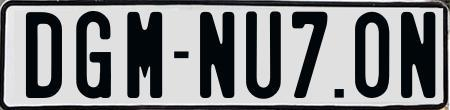0: (354, 10, 389, 102)
7: (289, 10, 325, 96)
D: (26, 11, 67, 101)
G: (73, 9, 114, 102)
M: (125, 9, 160, 99)
N: (198, 11, 235, 98), (399, 10, 430, 100)
U: (244, 11, 279, 99)
